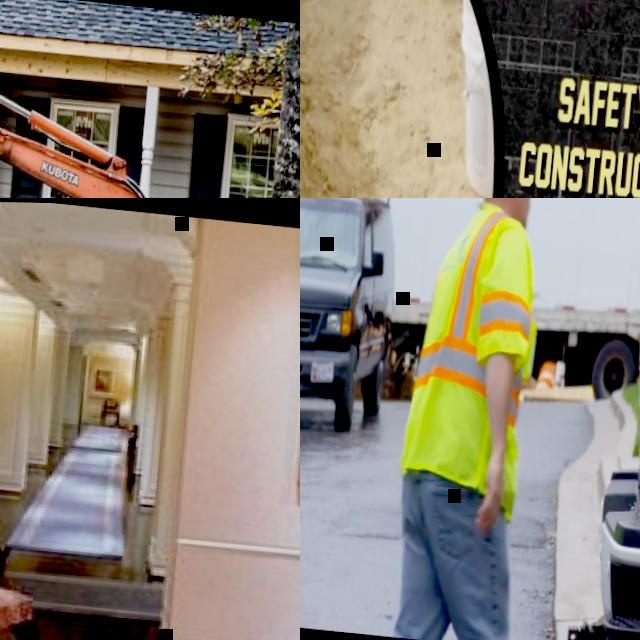NO-Mask: (501, 198, 532, 227)
Person: (382, 198, 557, 640)
Safety Cone: (536, 360, 556, 388)
Safety Vest: (397, 200, 546, 509)
machinery: (0, 65, 300, 198)
vehicle: (525, 198, 640, 640), (300, 198, 403, 437)
